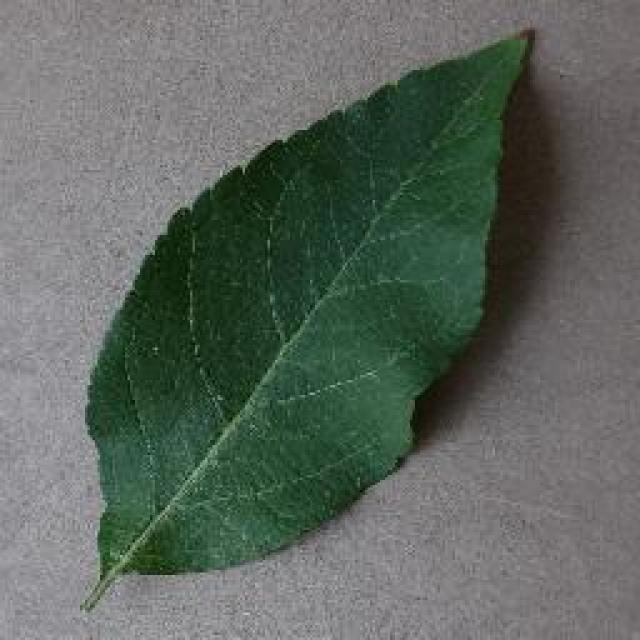apple healthy: (75, 22, 537, 610)
